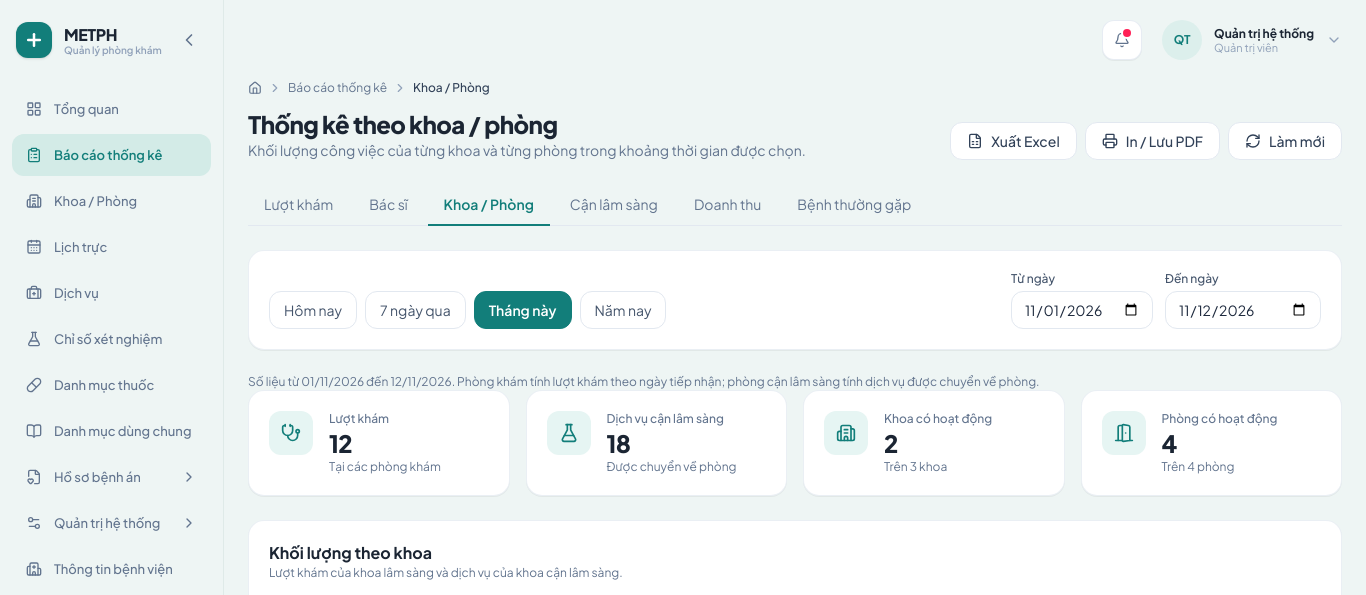
Test case: DepartmentStatisticsPage (UC-29) › reloads with a quick period and shows a Vietnamese error with retry
Click the button "7 ngày qua" at (415, 310), box [365,291,466,329]
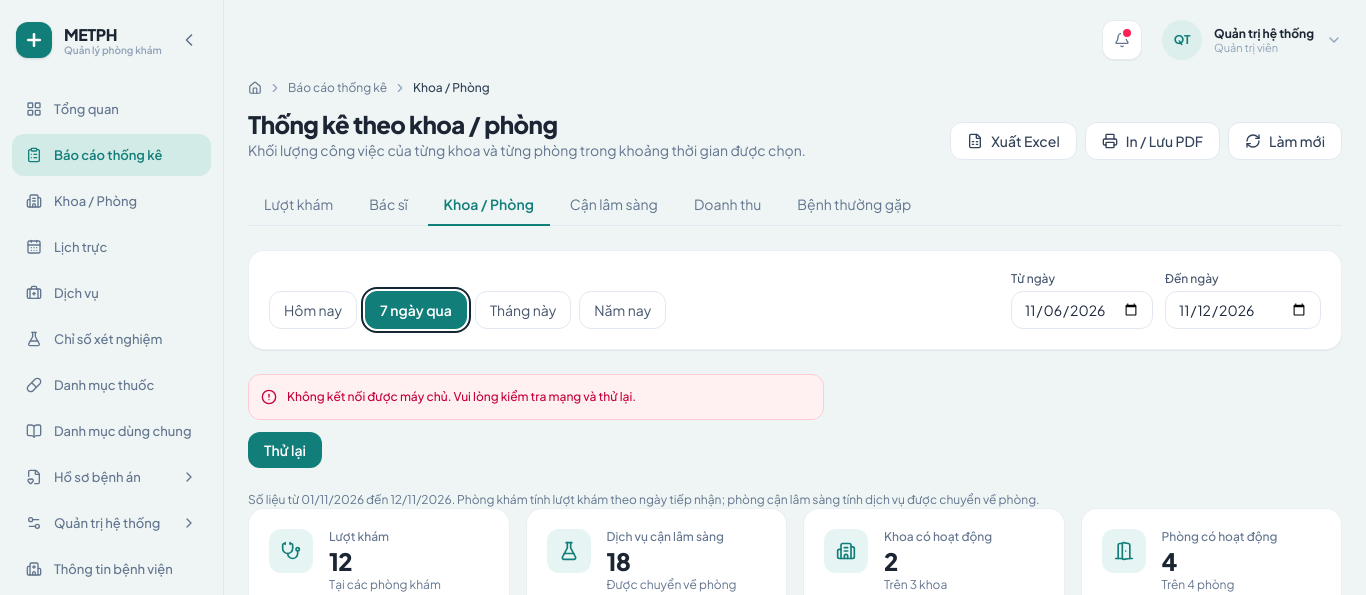
Expected: the text "Không kết nối được máy chủ. Vui lòng kiểm tra mạng và thử lại." is shown, [287,387,636,407]
Click the button "Thử lại" at (285, 450), box [248,432,322,468]
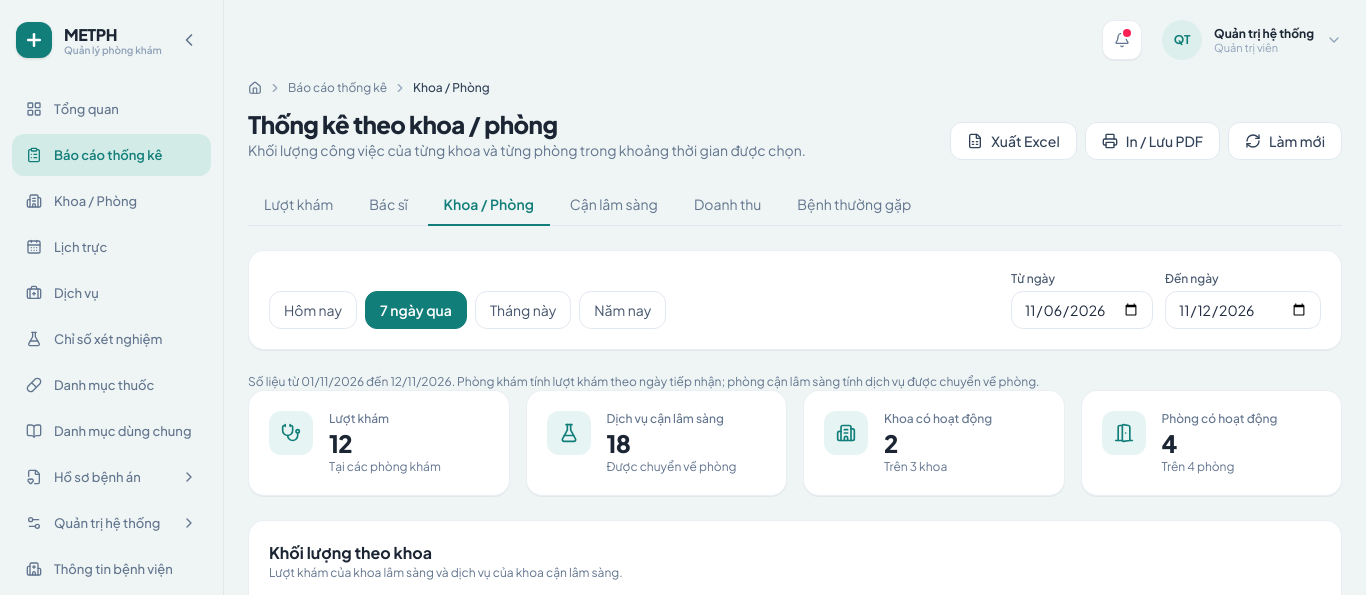
Expected: the text "Không kết nối được máy chủ" is gone
